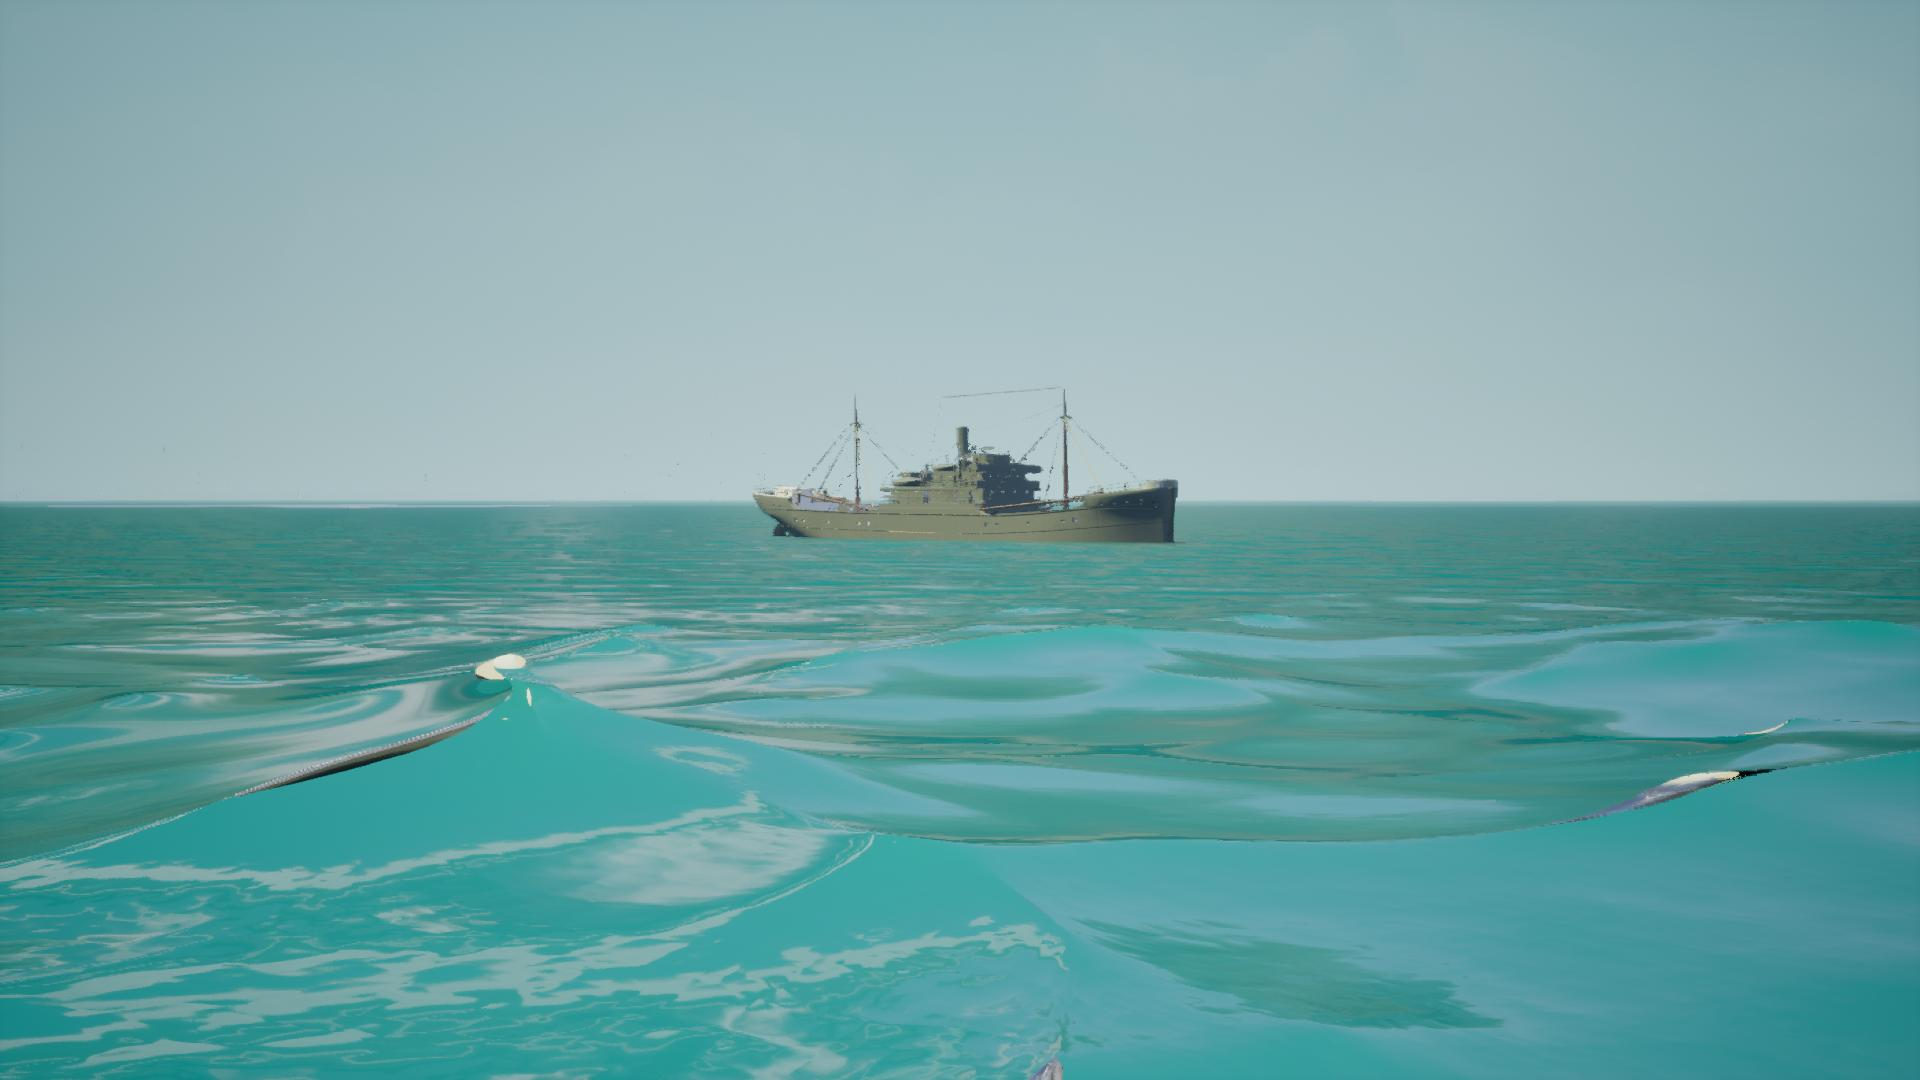Fishing Boat: (749, 388, 1182, 545)
